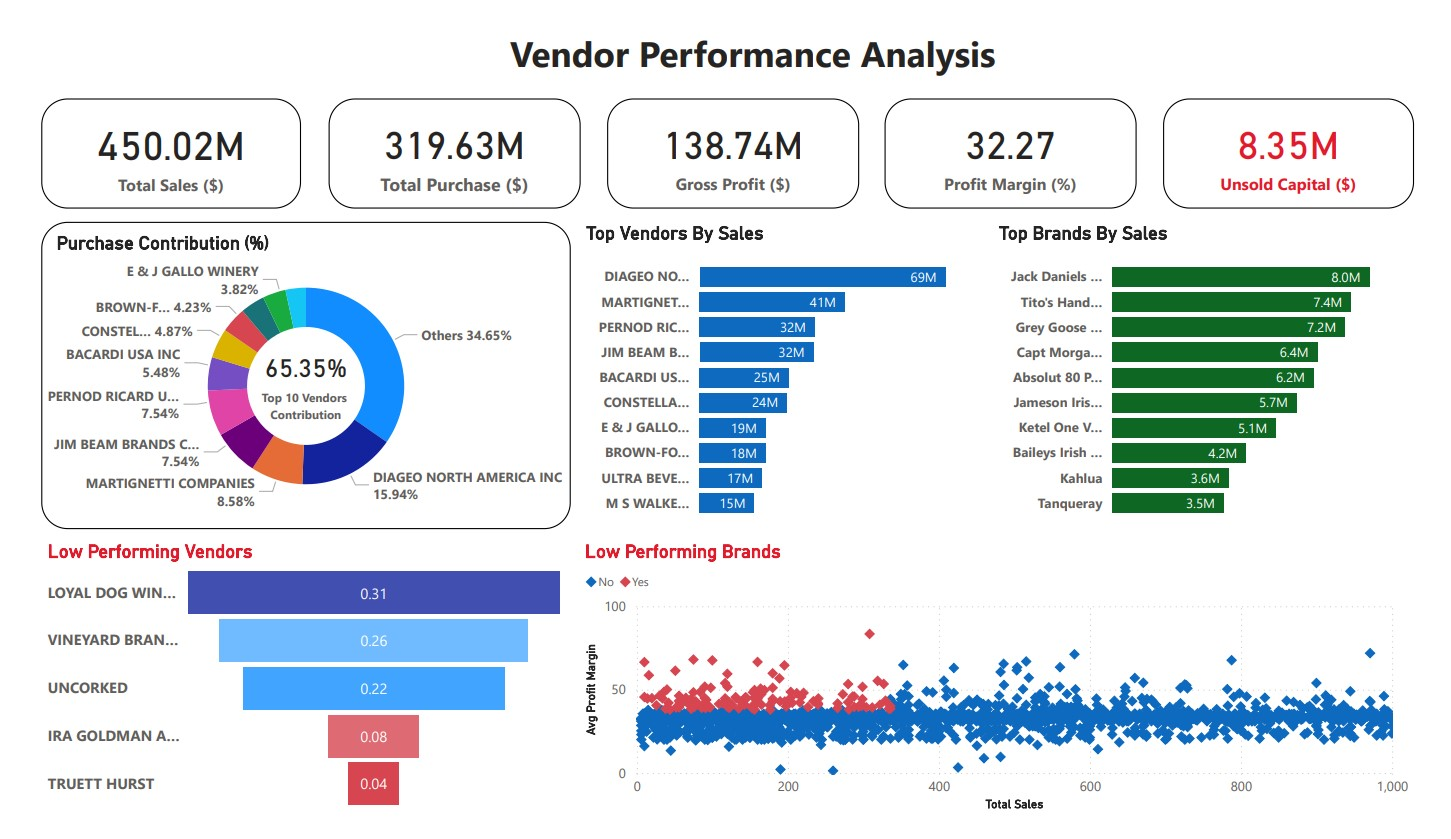

Layout of this report page (visuals, bound fields, positions):
{"tool":"powerbi","page":{"name":"Page 1","canvas":[1280,720],"ordinal":0},"visuals":[{"type":"card","fields":{"Values":["Sum(vendor_sales_summary.TotalSalesDollars)"]},"box":[18.5,69.1,235.4,100.2],"z":0},{"type":"card","fields":{"Values":["Sum(vendor_sales_summary.TotalPurchaseDollars)"]},"box":[279.1,69.1,228.6,100.2],"z":1000},{"type":"card","fields":{"Values":["Sum(vendor_sales_summary.GrossProfit)"]},"box":[532,69.1,228.6,100.2],"z":2000},{"type":"card","fields":{"Values":["Avg(vendor_sales_summary.ProfitMargin)"]},"box":[784,69.1,228.6,100.2],"z":3000},{"type":"card","fields":{"Values":["Sum(vendor_sales_summary.Unsold Capital)"]},"box":[1036.8,69.1,228.6,100.2],"z":4000},{"type":"donutChart","title":"Purchase Contribution (%)","fields":{"Category":["Vendor_Purchase_Summary.Vendor Category"],"Y":["Sum(Vendor_Purchase_Summary.TotalPurchaseDollars)"]},"box":[18.2,180.9,480.9,279.1],"z":5000},{"type":"card","fields":{"Values":["Vendor_Purchase_Summary.Top10Cont"]},"box":[185.5,251.8,146.4,137.3],"z":6000},{"type":"barChart","title":"Top Brands By Sales","fields":{"Y":["Sum(vendor_sales_summary.TotalSalesDollars)"],"Category":["vendor_sales_summary.Description"]},"box":[883.2,180.9,382.2,279.1],"z":7000},{"type":"barChart","title":"Top Vendors By Sales","fields":{"Category":["vendor_sales_summary.VendorName"],"Y":["Sum(vendor_sales_summary.TotalSalesDollars)"]},"box":[507.7,180.9,382.2,279.1],"z":8000},{"type":"funnel","title":"Low Performing Vendors","fields":{"Category":["LowTurnoverVendor.VendorName"],"Y":["Sum(LowTurnoverVendor.AvgStockTurnOver)"]},"box":[19.1,470,480,250],"z":9000},{"type":"scatterChart","title":"Low Performing Brands","fields":{"Category":["BrandPerformance.Description"],"X":["Sum(BrandPerformance.TotalSales)"],"Y":["Sum(BrandPerformance.AvgProfitMargin)"],"Series":["BrandPerformance.TargetBrand"]},"box":[507.3,470,758.2,250],"z":10000},{"type":"textbox","box":[468.6,6.3,459.7,56.6],"z":11000}]}

Visuals, with their boxes in screenshot pixels (x1, y1, x2, y2), scaled from the page's 1280x720 canvas onto the 1451x839 screenshot:
card - Sum(vendor_sales_summary.TotalSalesDollars): 21/81/288/197
card - Sum(vendor_sales_summary.TotalPurchaseDollars): 316/81/576/197
card - Sum(vendor_sales_summary.GrossProfit): 603/81/862/197
card - Avg(vendor_sales_summary.ProfitMargin): 889/81/1148/197
card - Sum(vendor_sales_summary.Unsold Capital): 1175/81/1434/197
"Purchase Contribution (%)" donutChart: 21/211/566/536
card - Vendor_Purchase_Summary.Top10Cont: 210/293/376/453
"Top Brands By Sales" barChart: 1001/211/1434/536
"Top Vendors By Sales" barChart: 576/211/1009/536
"Low Performing Vendors" funnel: 22/548/566/838
"Low Performing Brands" scatterChart: 575/548/1435/838
textbox: 531/7/1052/73
